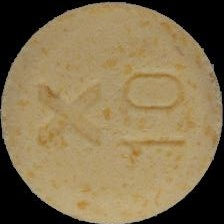16590-279: (0, 0, 224, 224)
